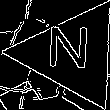N_S: (48, 28, 96, 80)
